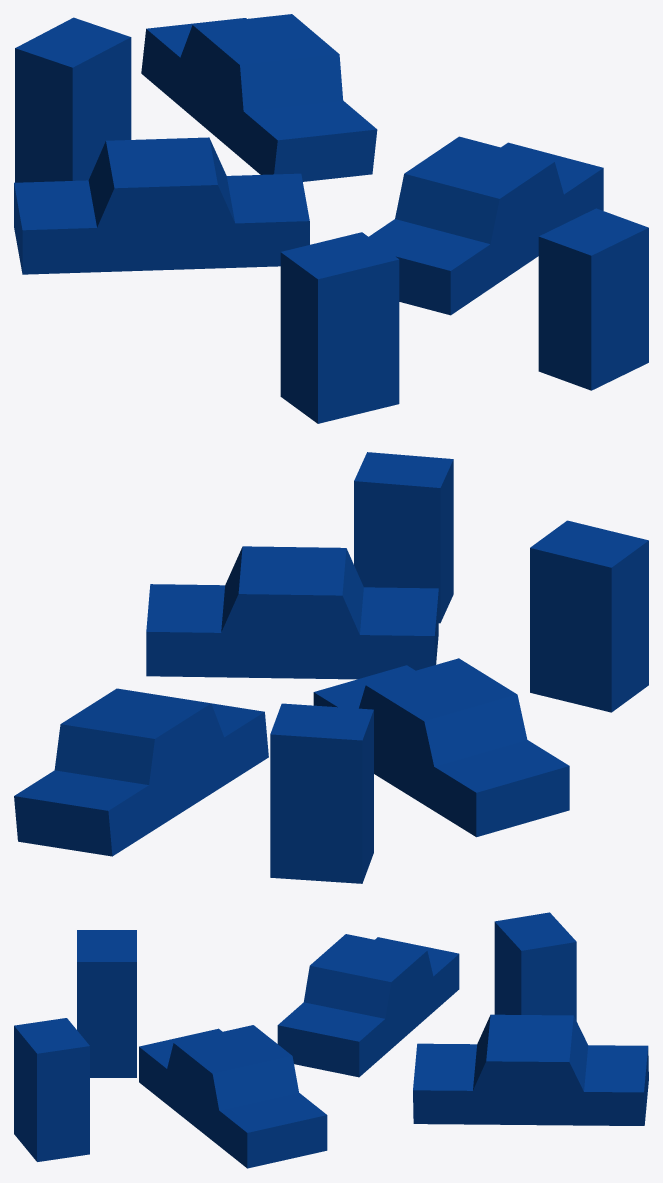
Rendered from street_police_002.fbx.
The picture shows the model from 3 angles, top to bottom: view 1: azimuth 30°, elevation 25°; view 2: azimuth 150°, elevation 25°; view 3: azimuth 270°, elevation 25°; orthographic projection. The views are drawn at different scales.
Visible parts, largest first — view 1: street_police_002; view 2: street_police_002; view 3: street_police_002.
Boxes of the visible parts, left/top/right/bottom form: street_police_002: left=14, top=14, right=648, bottom=423; street_police_002: left=14, top=452, right=648, bottom=883; street_police_002: left=14, top=912, right=648, bottom=1168.
Bounding box in the file's own units: 0.5567 × 0.1728 × 0.7627.
